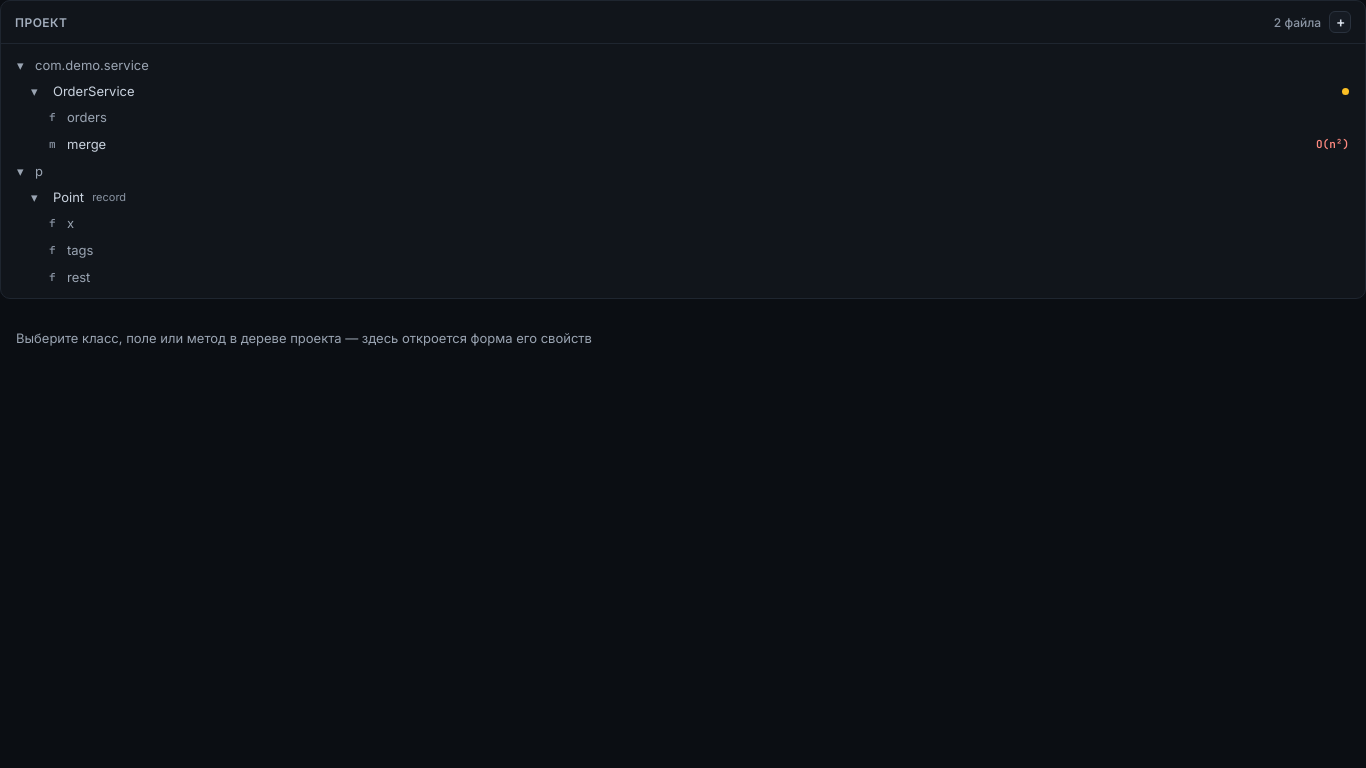
Test: record: компоненты в форме класса (FE-44) › клик по компоненту открывает форму класса с подсвеченной строкой, а не read-only поле
Check: the list with test id "project-tree" is shown, box x1=7 y1=52 x2=1359 y2=290
Click the button "f tags" at [52, 250], box x1=7 y1=237 x2=1359 y2=263
(page scrolled)
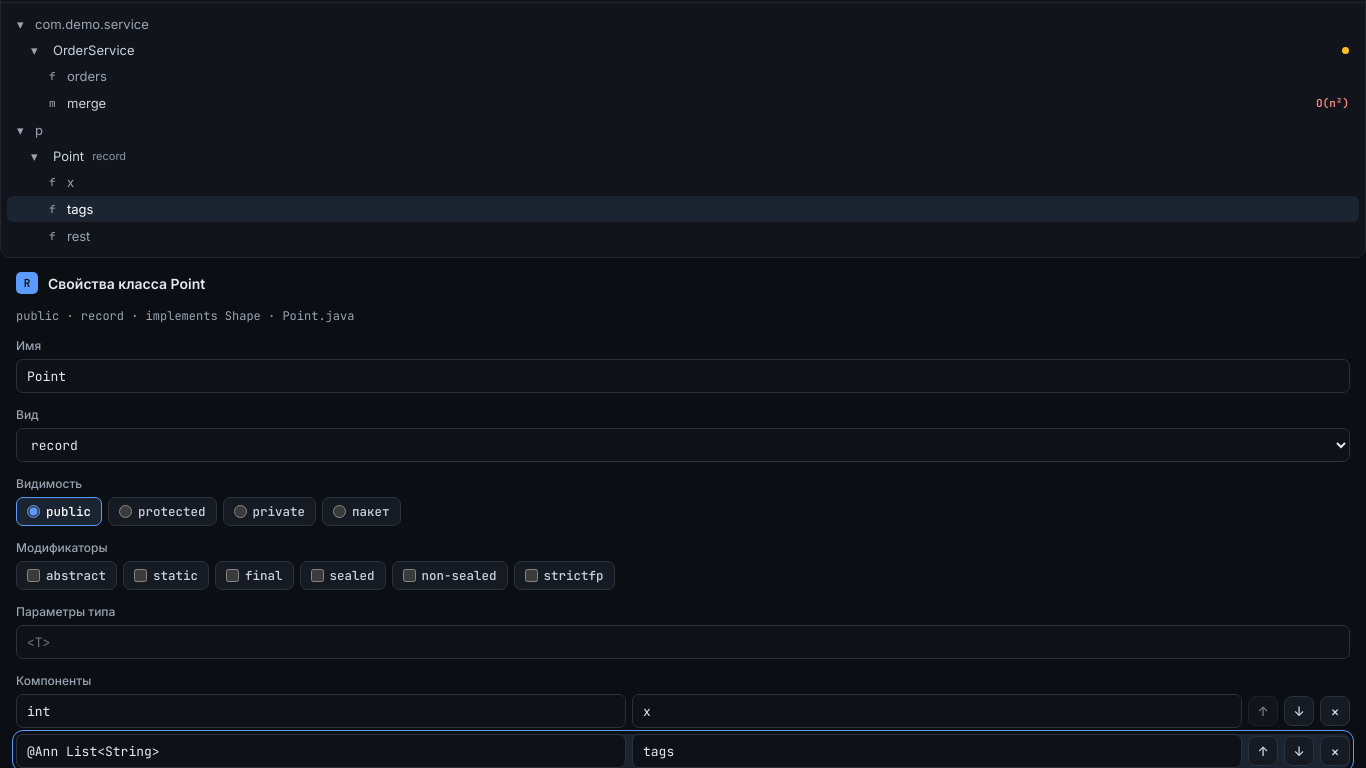
Check: the field named "Тип компонента 1" holds "int", box x1=16 y1=694 x2=626 y2=728
Check: the field named "Тип компонента 2" holds "@Ann List<String>", box x1=16 y1=734 x2=626 y2=767
